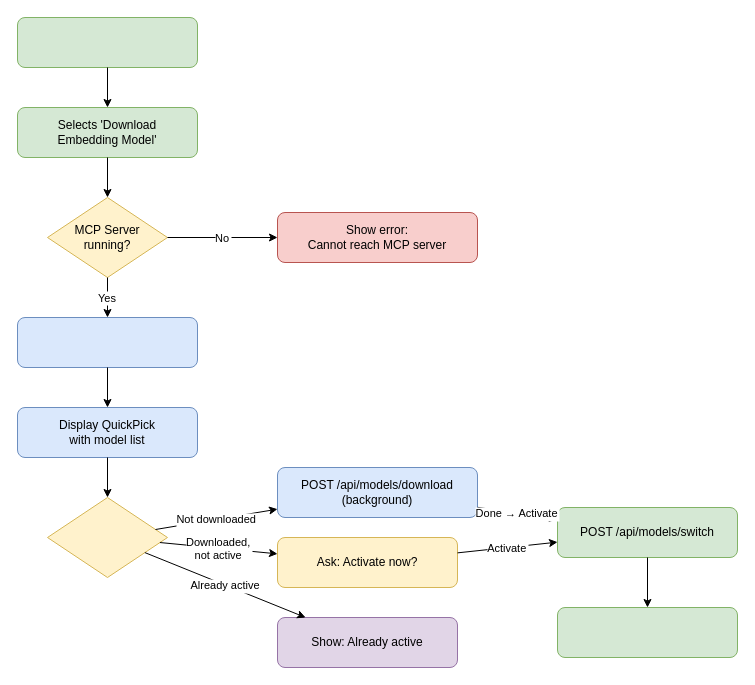
This 755x685 diagram has some shape labels left out. The box of each missing label's shape, as (x1, y1, x2, y2) in pixels:
Developer opens Command Palette: (16, 16, 198, 68)
GET /api/models/list + /api/models/status: (16, 316, 198, 368)
Model status?: (46, 496, 168, 578)
Success: Model switched ✅: (556, 606, 738, 658)
